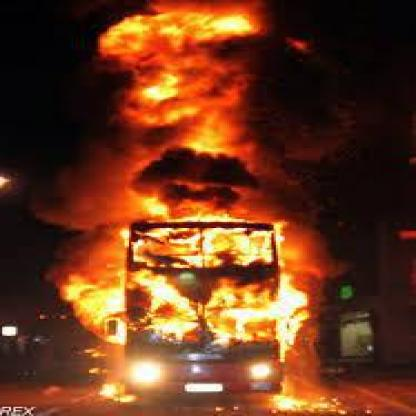fire: (38, 0, 331, 347), (267, 386, 337, 412), (96, 380, 138, 407)
other: (127, 358, 166, 383), (179, 381, 226, 392), (245, 360, 273, 378)
